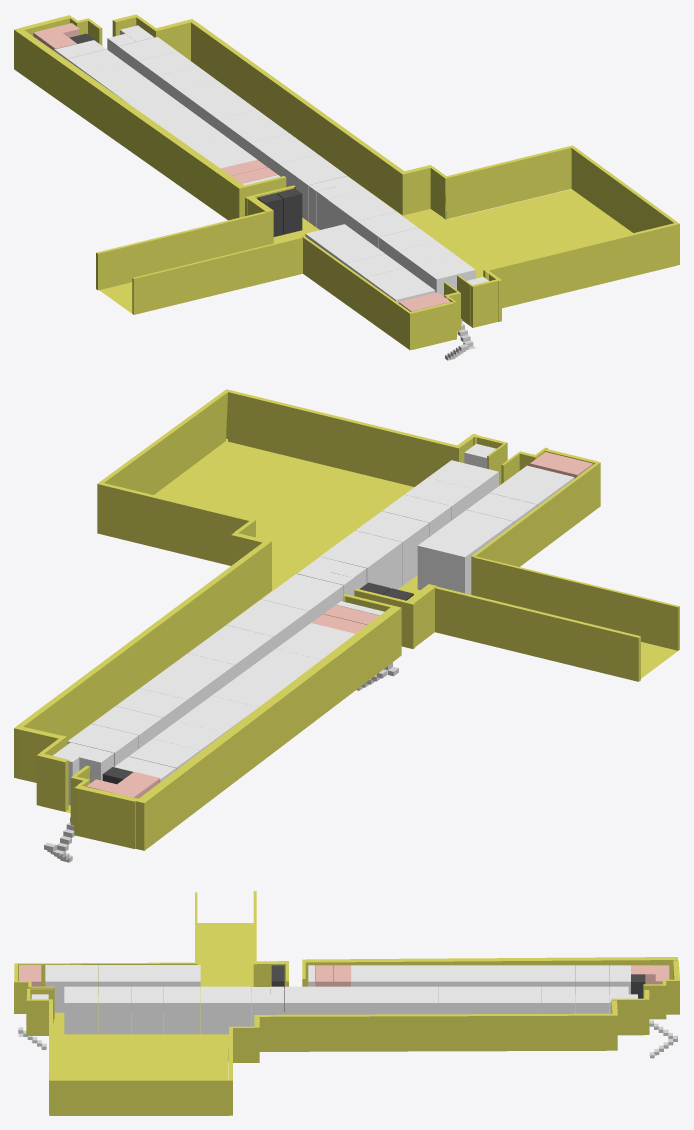
The picture shows the model from 3 angles, top to bottom: view 1: azimuth 30°, elevation 25°; view 2: azimuth 150°, elevation 25°; view 3: azimuth 270°, elevation 25°; orthographic projection. The views are drawn at different scales.
Visible parts, largest first — view 1: object.001, ゼミ105S, ゼミ105T, ゼミ105R, ゼミ105X, ゼミ105H, ゼミ105U, ゼミ105IG, ゼミ105E, ゼミ105L, ゼミ105K, ゼミ105M (+18 smaller); view 2: object.001, ゼミ105D, ゼミ105T, ゼミ105S, ゼミ105R, ゼミ105U, ゼミ105H, ゼミ105IG, ゼミ105E, ゼミ105K, ゼミ105L, ゼミ105X (+16 smaller); view 3: object.001, ゼミ105T, ゼミ105U, ゼミ105X, ゼミ105W, ゼミ105V, ゼミ105S, ゼミ105R, ゼミ105H, ゼミ105IG, ゼミ105E, ゼミ105O (+19 smaller).
Part boxes in pixels (x1,y1,x2,y2): object.001: [14, 14, 679, 350]; ゼミ105S: [279, 154, 346, 221]; ゼミ105T: [327, 190, 395, 232]; ゼミ105R: [250, 133, 317, 174]; ゼミ105X: [417, 255, 475, 296]; ゼミ105H: [107, 78, 174, 108]; ゼミ105U: [357, 211, 417, 248]; ゼミ105IG: [136, 99, 203, 129]; ゼミ105E: [191, 138, 257, 168]; ゼミ105L: [138, 51, 196, 86]; ゼミ105K: [118, 37, 177, 71]; ゼミ105M: [158, 66, 216, 101]; object.001: [14, 389, 679, 850]; ゼミ105D: [417, 526, 491, 594]; ゼミ105T: [320, 530, 402, 589]; ゼミ105S: [261, 574, 343, 624]; ゼミ105R: [227, 599, 308, 649]; ゼミ105U: [355, 511, 428, 585]; ゼミ105H: [177, 695, 258, 733]; ゼミ105IG: [212, 670, 292, 706]; ゼミ105E: [276, 623, 355, 659]; ゼミ105K: [67, 724, 138, 766]; ゼミ105L: [91, 706, 162, 748]; ゼミ105X: [428, 460, 498, 503]; object.001: [14, 891, 679, 1115]; ゼミ105T: [201, 986, 250, 1034]; ゼミ105U: [163, 986, 200, 1034]; ゼミ105X: [64, 986, 97, 1034]; ゼミ105W: [98, 986, 130, 1034]; ゼミ105V: [131, 986, 162, 1034]; ゼミ105S: [284, 986, 334, 1014]; ゼミ105R: [334, 986, 383, 1014]; ゼミ105H: [492, 965, 541, 1012]; ゼミ105IG: [442, 965, 491, 986]; ゼミ105E: [351, 965, 400, 986]; ゼミ105O: [439, 986, 472, 1014].
Bounding box in the file's own units: 2.14 × 0.3521 × 3.12.
